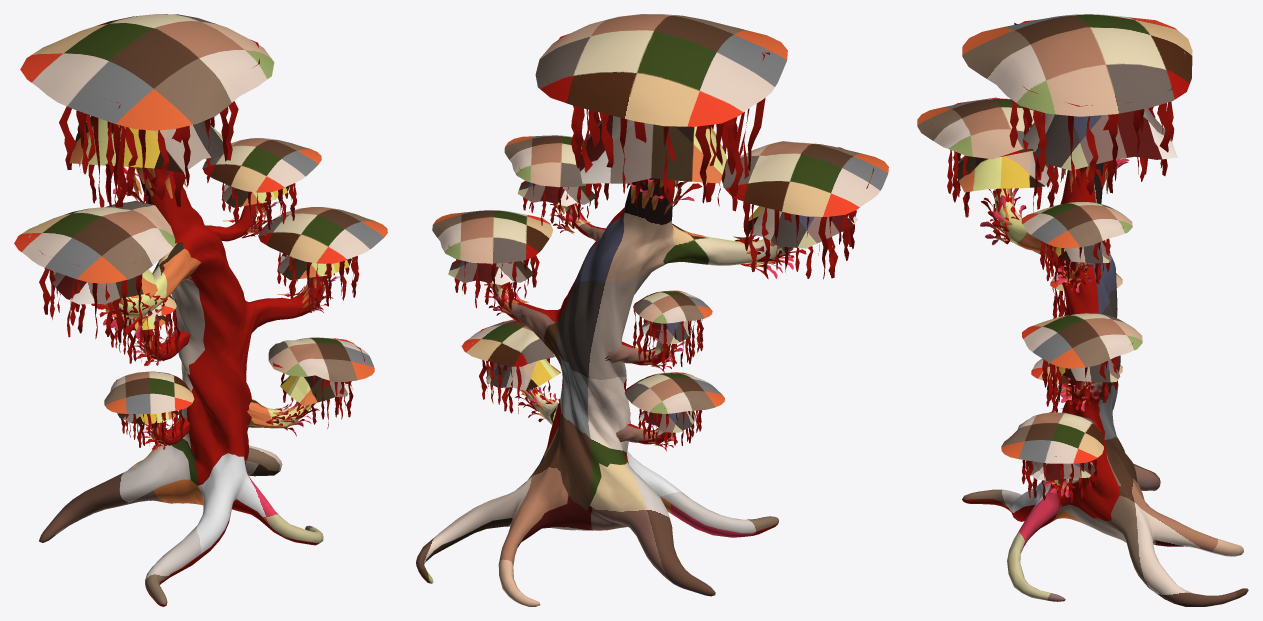
The model's file is jhay_tree1.glb.
3 renders of one model, left to right at view 1: azimuth 30°, elevation 25°; view 2: azimuth 150°, elevation 25°; view 3: azimuth 270°, elevation 25°, orthographic. The views are drawn at different scales.
Visible parts, largest first — view 1: tree 1; view 2: tree 1; view 3: tree 1.
Boxes of the visible parts, <box> form: tree 1: <box>14,14,387,606</box>; tree 1: <box>416,14,888,606</box>; tree 1: <box>917,14,1248,606</box>.
Size of the model in its own units: 4.56 by 5.9 by 3.48.
Materials: 2 (2 with a texture image).
